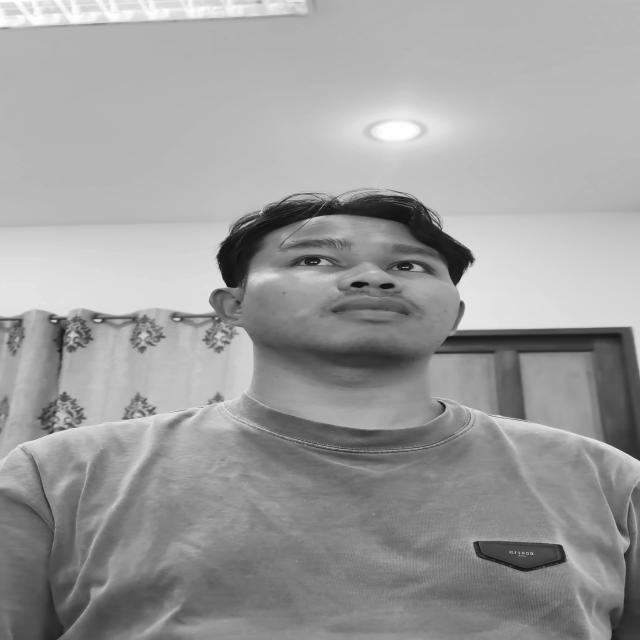ear: (209, 288, 243, 327)
